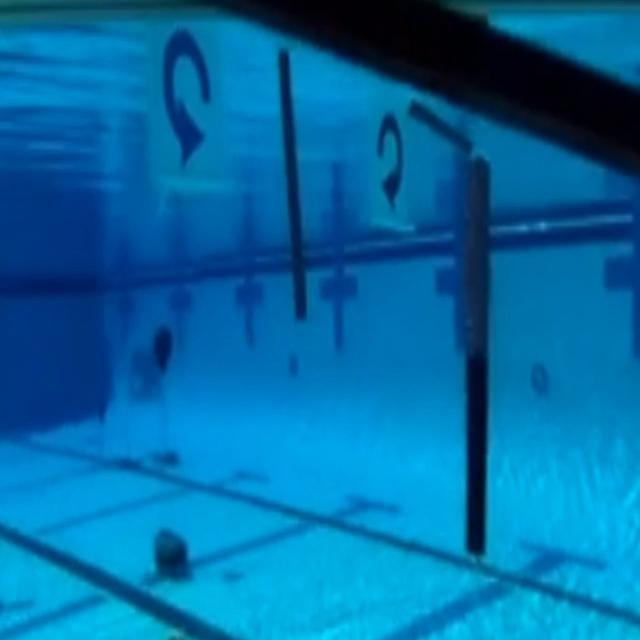Gate: (136, 6, 493, 578)
